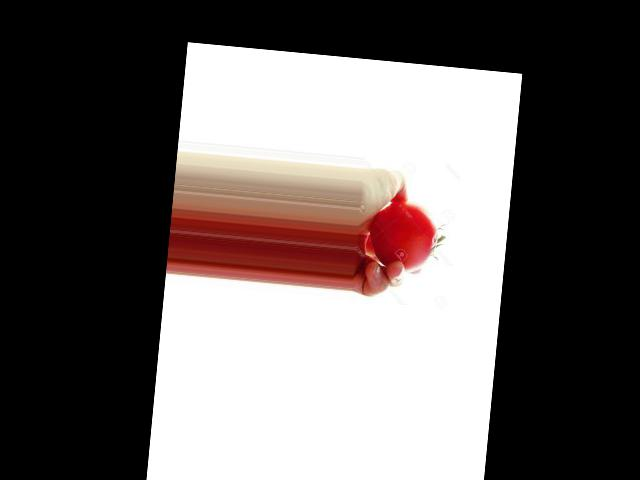tomato: (367, 199, 441, 276)
